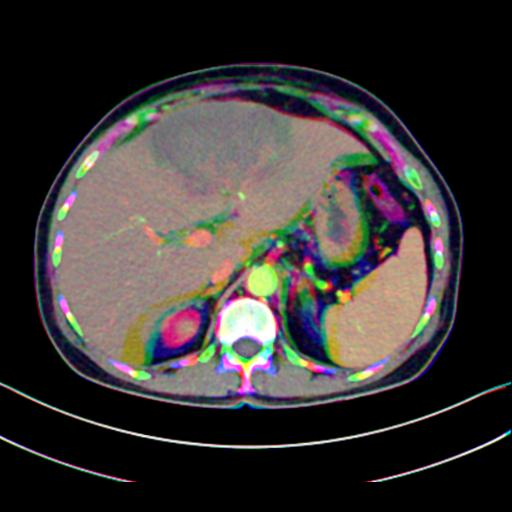Abscess: (146, 102, 297, 192)
